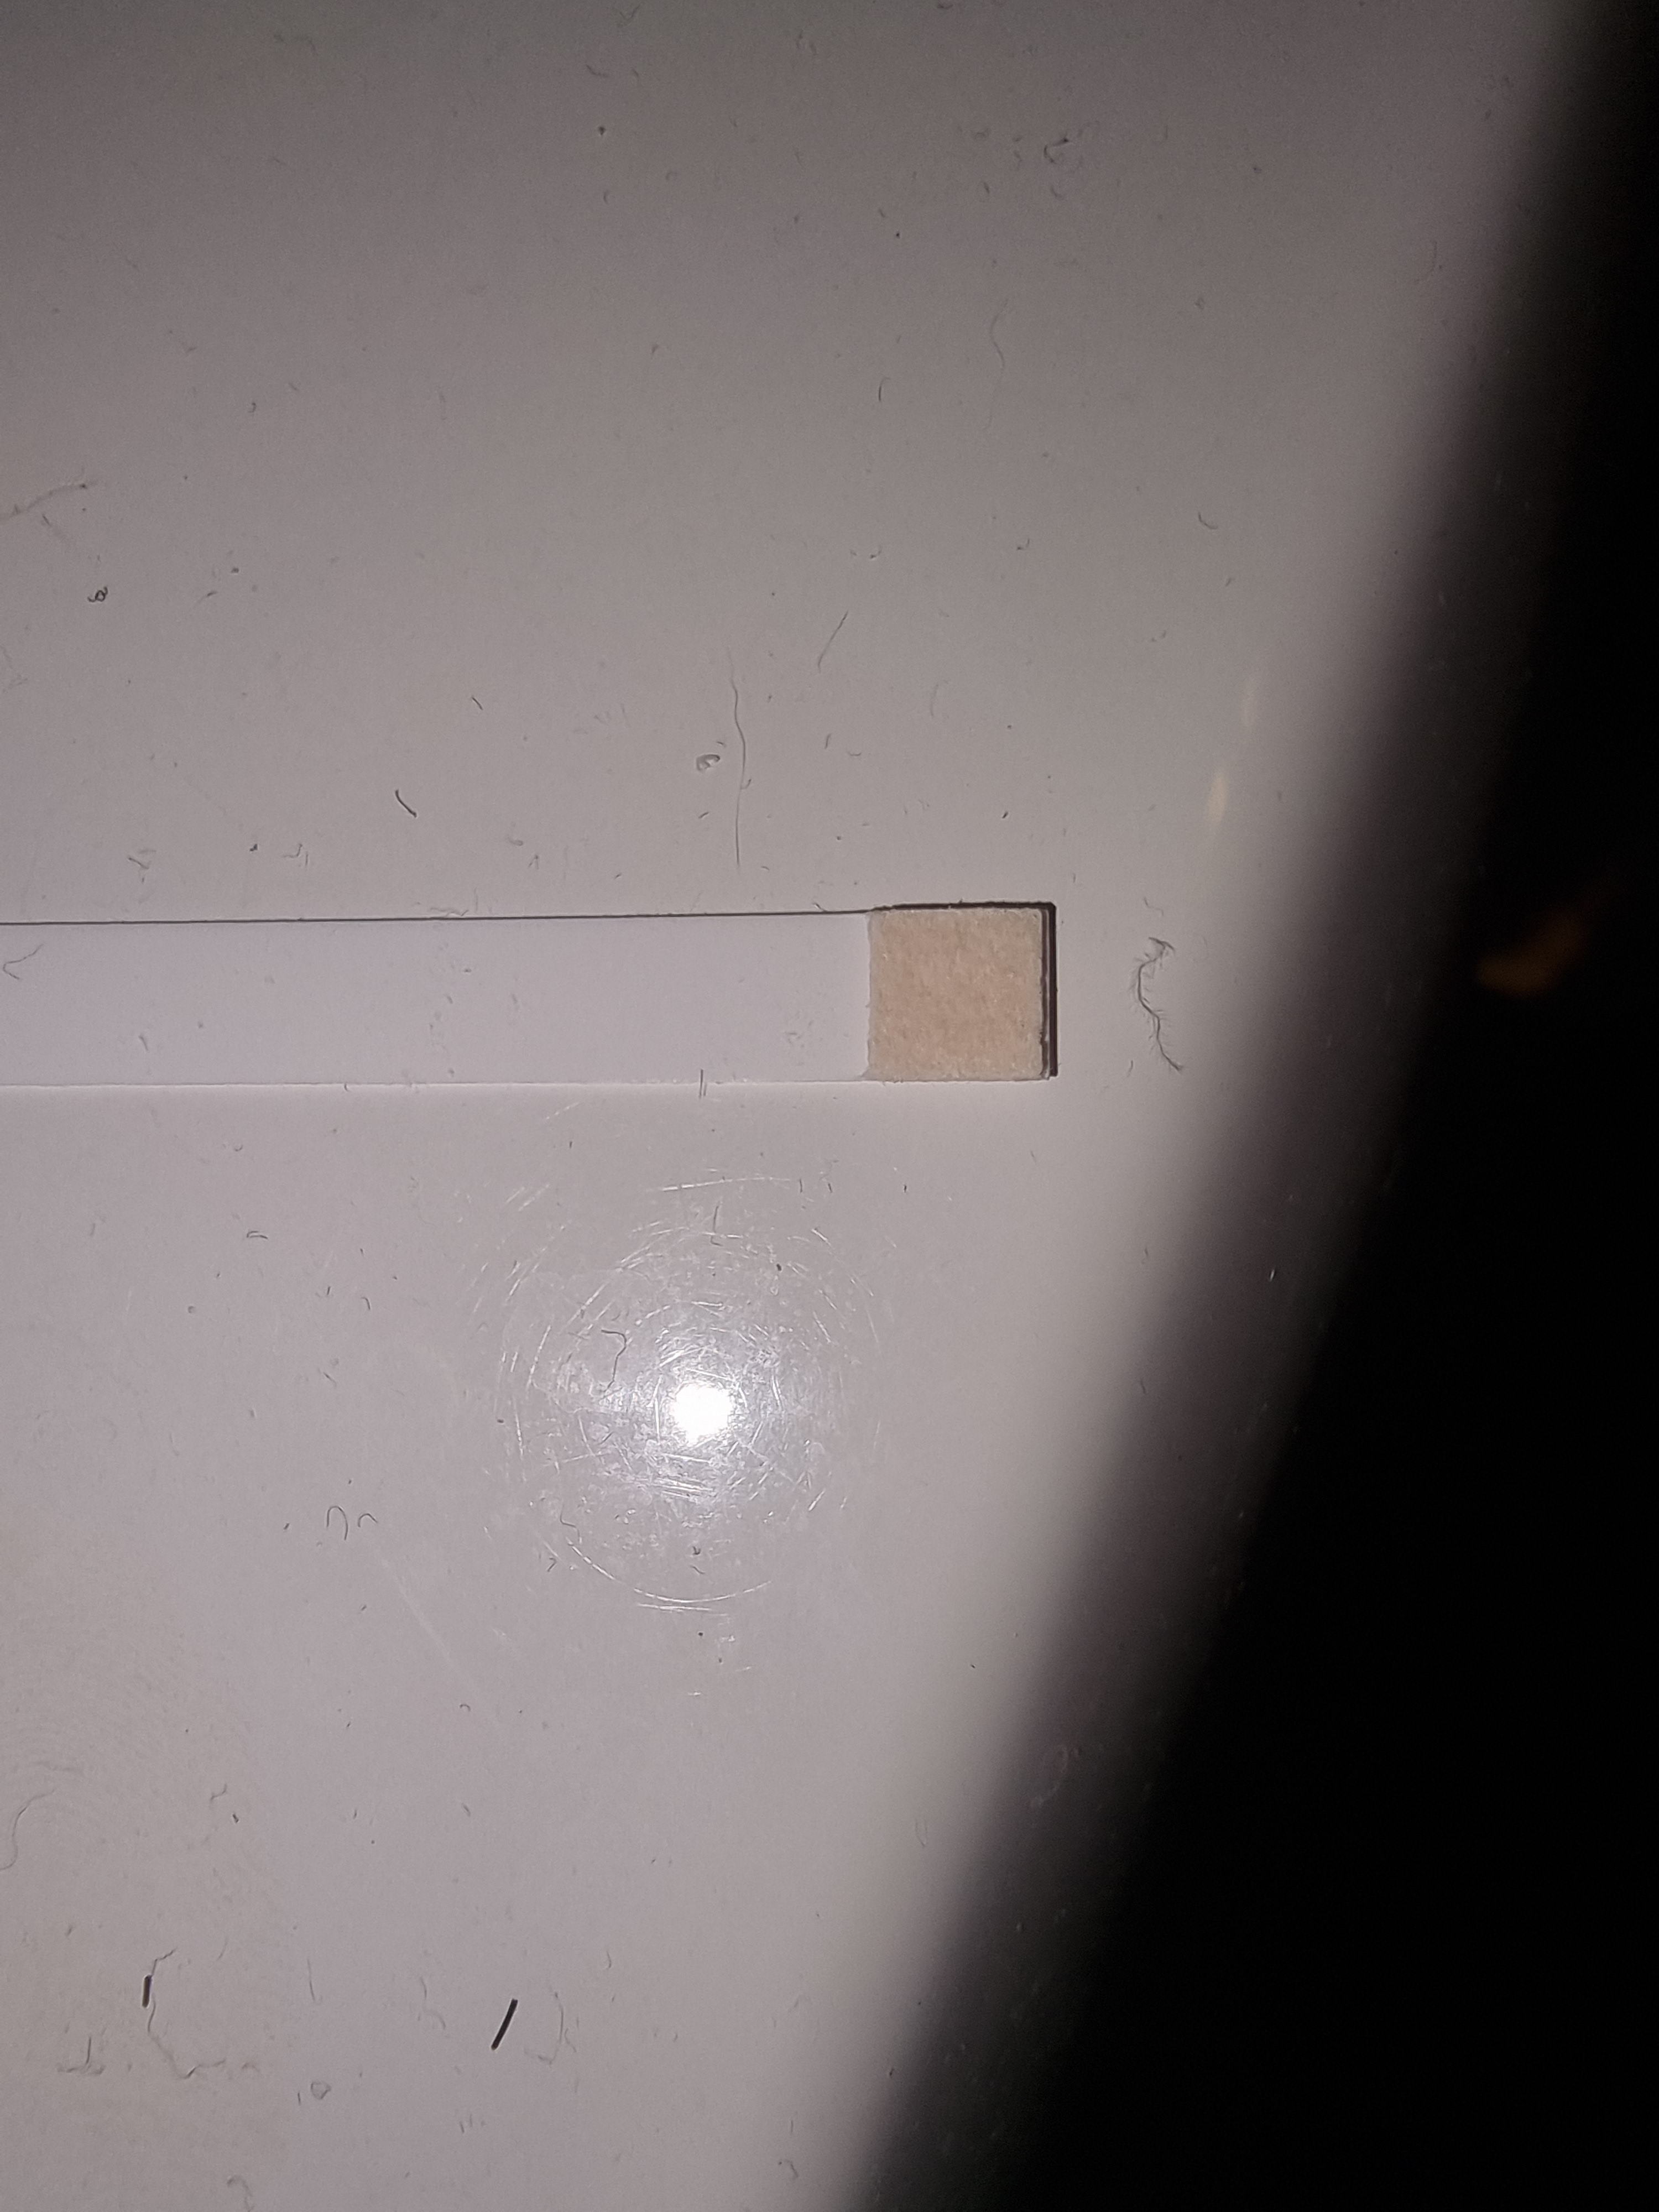keto-tip: (864, 899, 1056, 1085)
